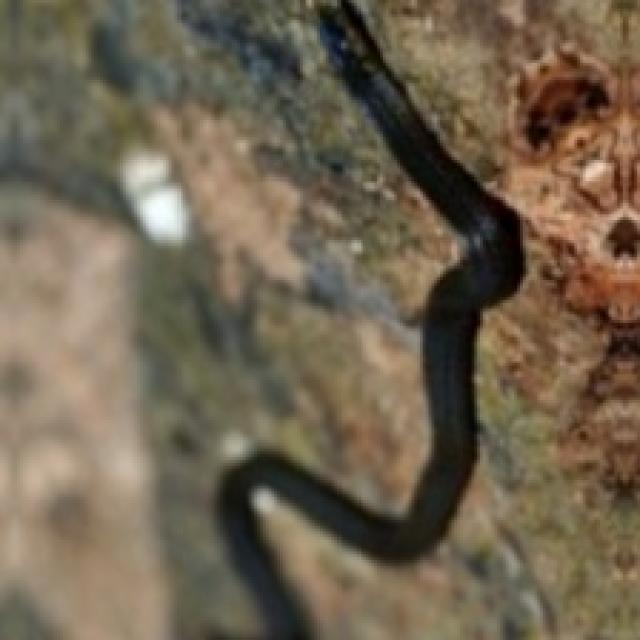gervais worm snake: (217, 0, 523, 637)
